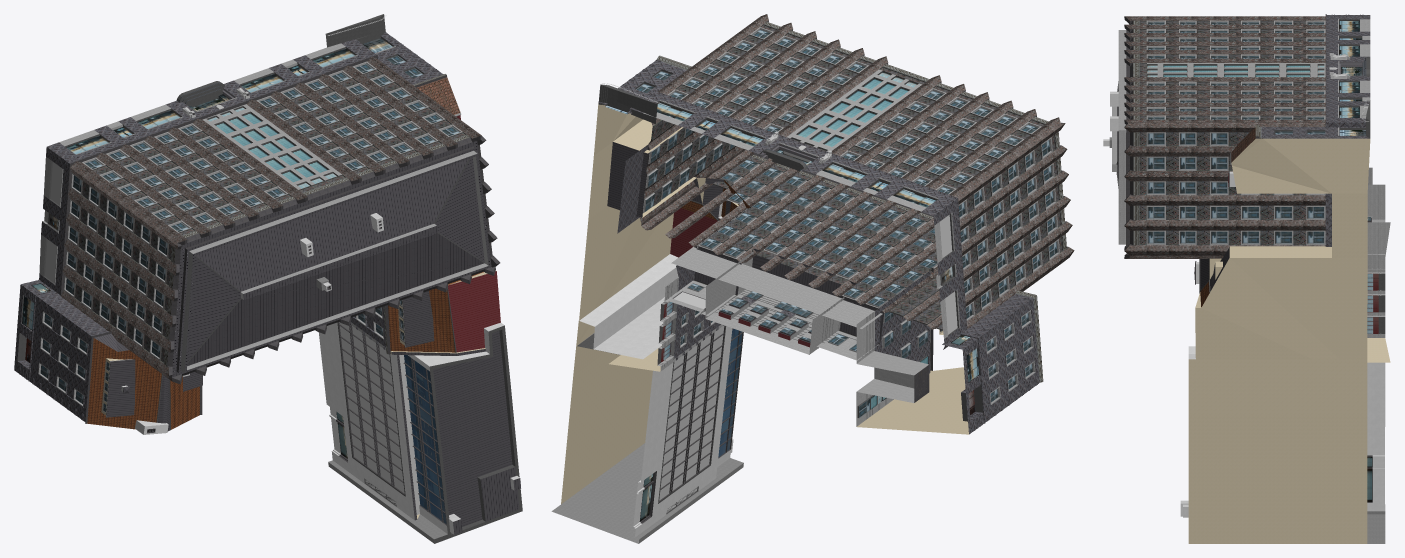
The model's file is Vabaduse_valjak_7.obj.
The picture shows the model from 3 angles, left to right: view 1: azimuth 30°, elevation 25°; view 2: azimuth 150°, elevation 25°; view 3: azimuth 270°, elevation 25°; orthographic projection. The views are drawn at different scales.
Visible parts, largest first — view 1: Vabaduse_Valiak_7; view 2: Vabaduse_Valiak_7; view 3: Vabaduse_Valiak_7.
Boxes of the visible parts, x1=… form: Vabaduse_Valiak_7: x1=14, y1=14, x2=522, y2=543; Vabaduse_Valiak_7: x1=551, y1=14, x2=1074, y2=543; Vabaduse_Valiak_7: x1=1103, y1=14, x2=1390, y2=543.
Size of the model in its own units: 53.17 by 54.79 by 34.38.
